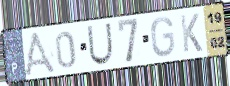0: (53, 30, 78, 69)
7: (116, 17, 141, 65)
A: (21, 29, 58, 76)
G: (150, 15, 176, 59)
K: (178, 12, 204, 54)
U: (86, 22, 114, 67)
